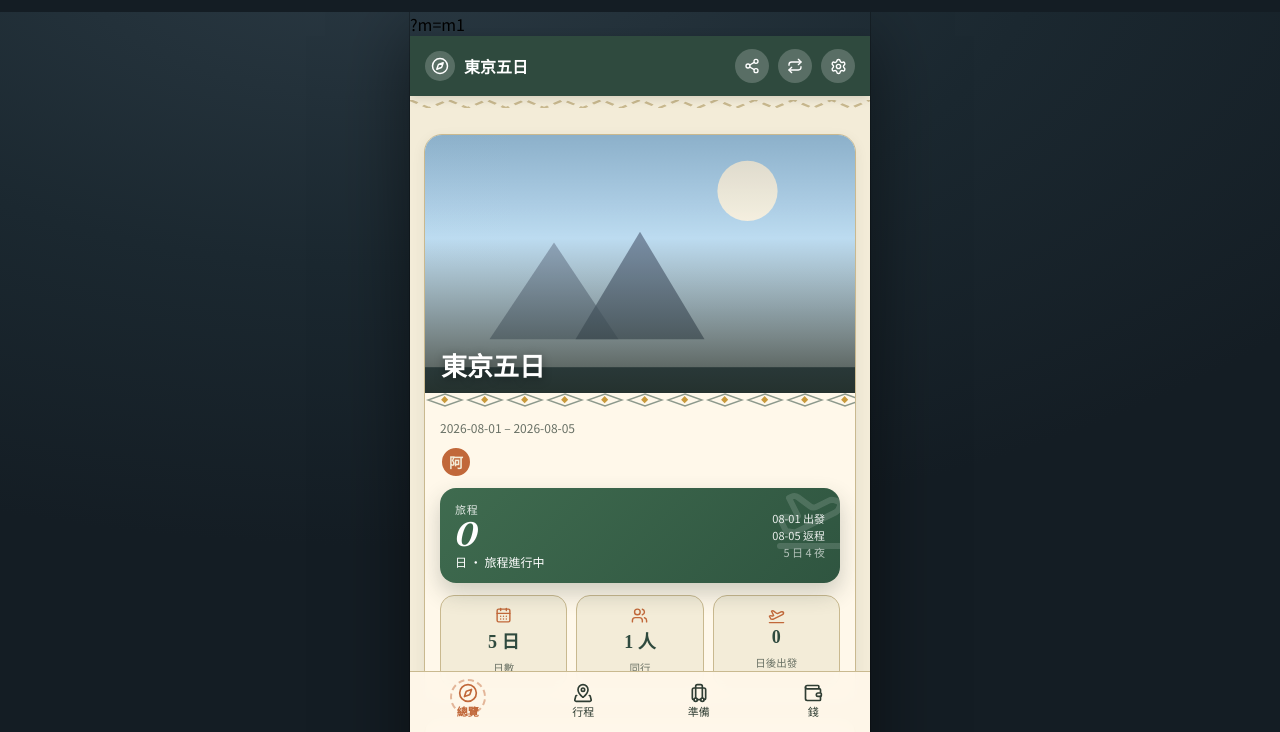
TripShell › lets a member switch identity, clearing the local record and returning to the who-am-i picker
expect the text "東京五日" is shown: met, box [464,54,528,78]
Click the button named "切換身份" at (795, 66), box [778,49,812,83]
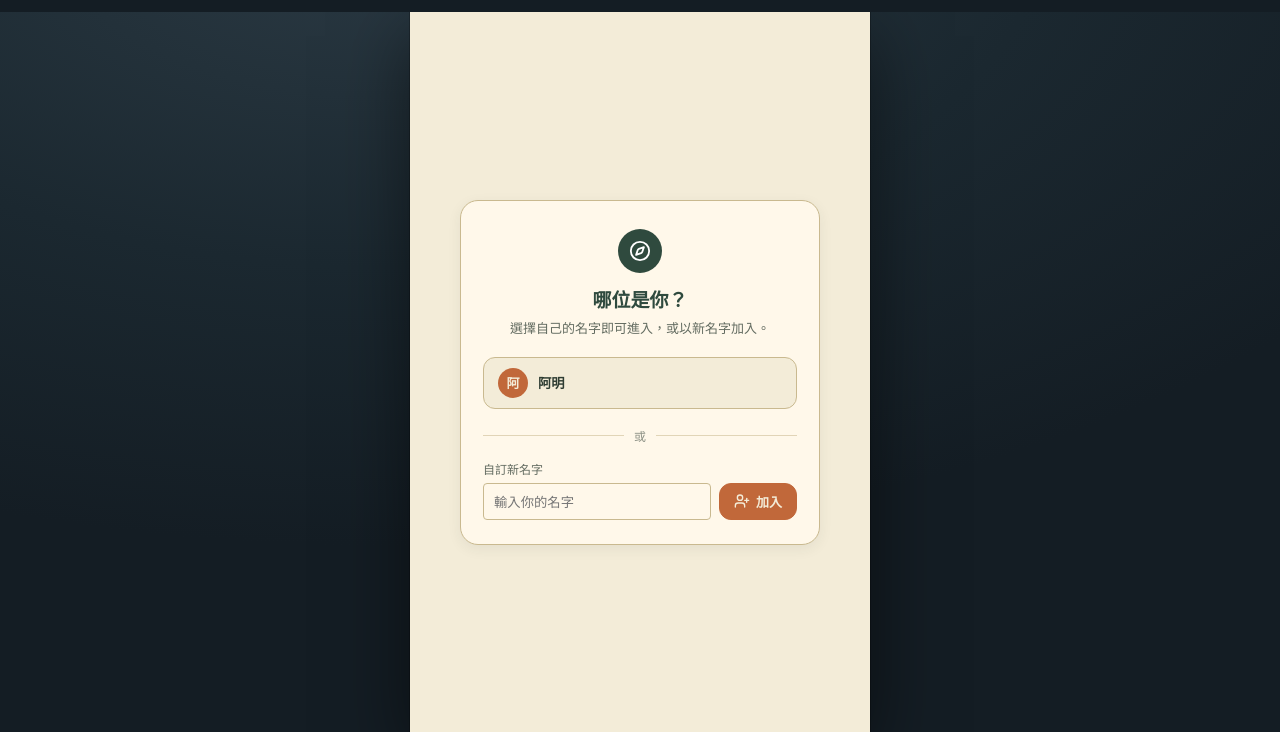
expect the heading "哪位是你？" is shown: met, box [592,286,688,312]
